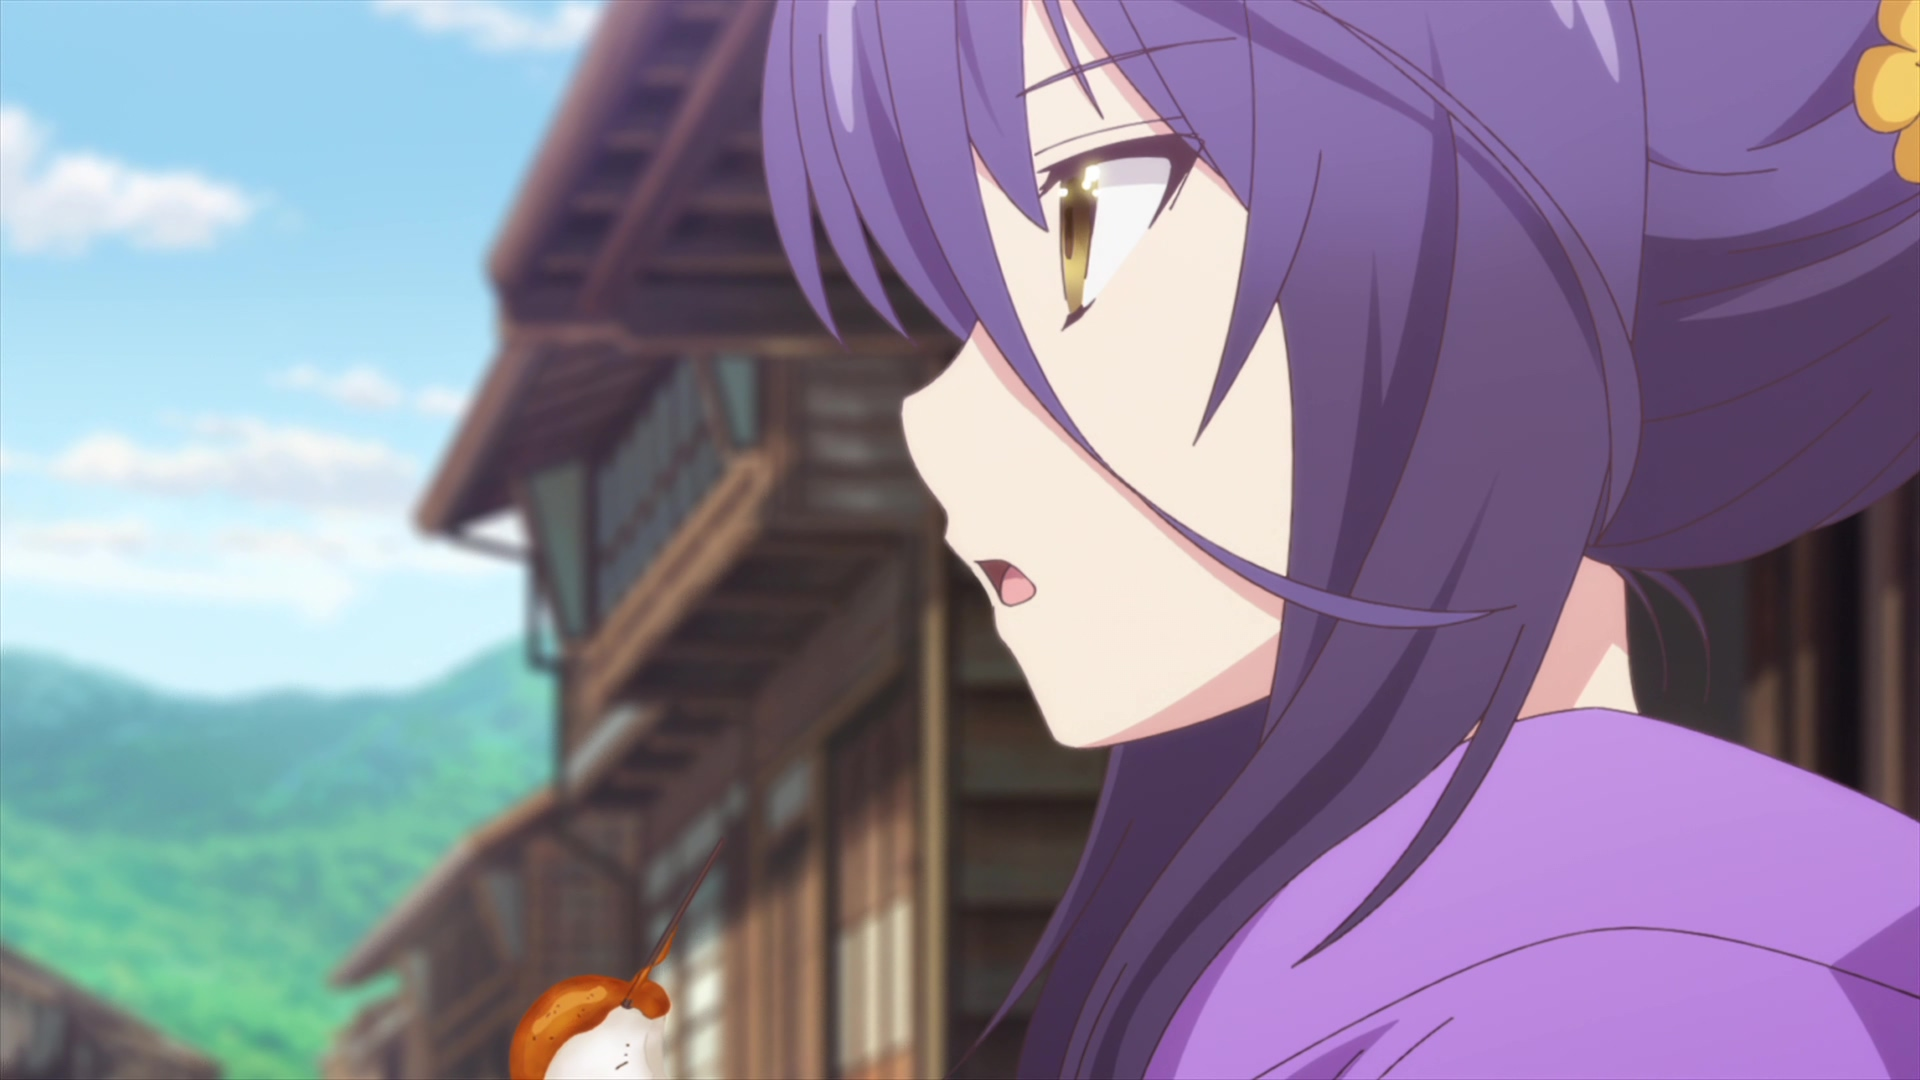皋: (764, 1, 1920, 1080)
